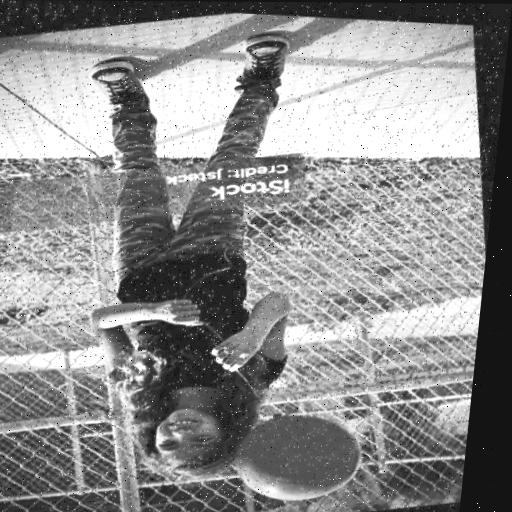balloon: (221, 390, 383, 512)
